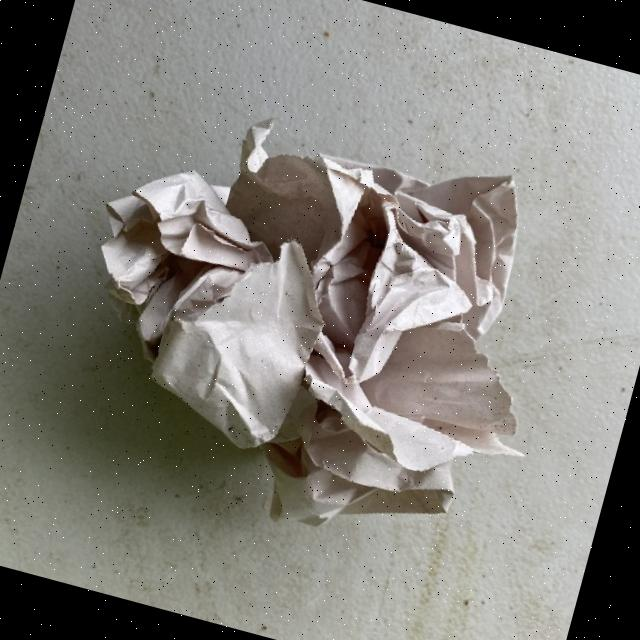paper: (38, 74, 592, 576)
